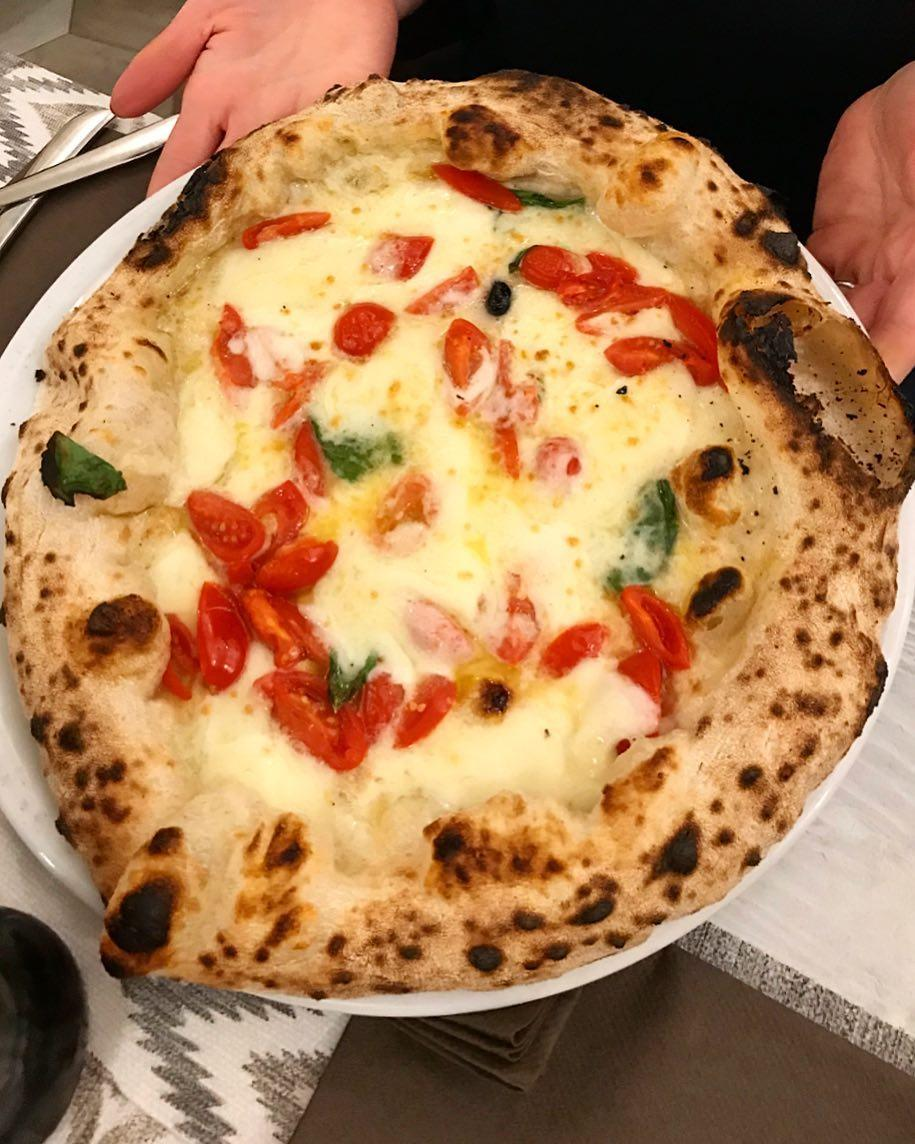Basil: (604, 478, 677, 585), (43, 430, 127, 508), (315, 410, 407, 474)
Cheese: (545, 373, 736, 477), (351, 197, 576, 273), (333, 555, 492, 661), (443, 481, 607, 572), (461, 681, 602, 780), (223, 257, 371, 345), (205, 703, 324, 796), (175, 375, 290, 468), (337, 317, 446, 402)
Pizza: (0, 78, 915, 1000)
Tomatoes: (188, 483, 396, 761), (524, 245, 722, 384), (259, 665, 378, 753), (445, 319, 541, 422), (623, 586, 689, 727), (235, 591, 315, 666), (431, 162, 523, 216), (189, 493, 255, 568), (371, 479, 436, 549), (546, 619, 612, 681), (245, 211, 337, 254), (214, 302, 260, 384), (325, 299, 394, 352), (397, 671, 450, 740), (401, 274, 487, 313), (279, 359, 332, 418), (263, 541, 327, 588), (372, 230, 433, 278), (609, 335, 680, 376), (505, 579, 538, 663), (529, 437, 578, 485), (291, 425, 326, 477), (495, 423, 524, 485)
